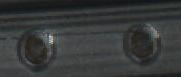joints: (122, 22, 160, 63), (17, 29, 54, 70)
